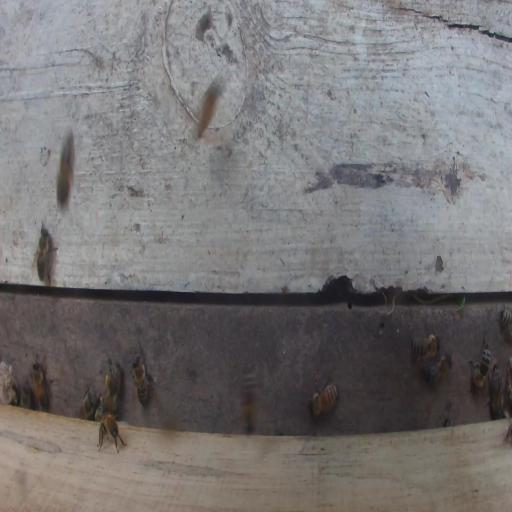bee: (308, 369, 339, 418), (56, 127, 75, 206), (467, 332, 492, 392), (97, 410, 129, 455), (101, 352, 122, 419), (485, 363, 507, 424), (422, 349, 453, 390), (130, 353, 151, 410), (408, 326, 440, 362), (34, 223, 53, 281), (30, 359, 50, 411), (78, 382, 101, 423), (496, 301, 511, 351), (20, 380, 36, 410)
